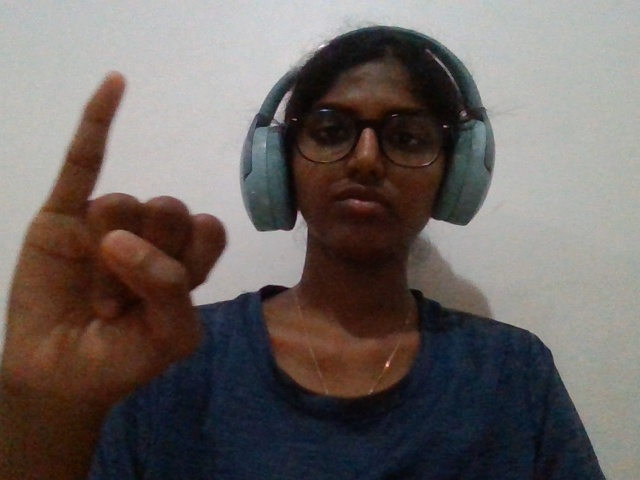I: (7, 63, 239, 455)
